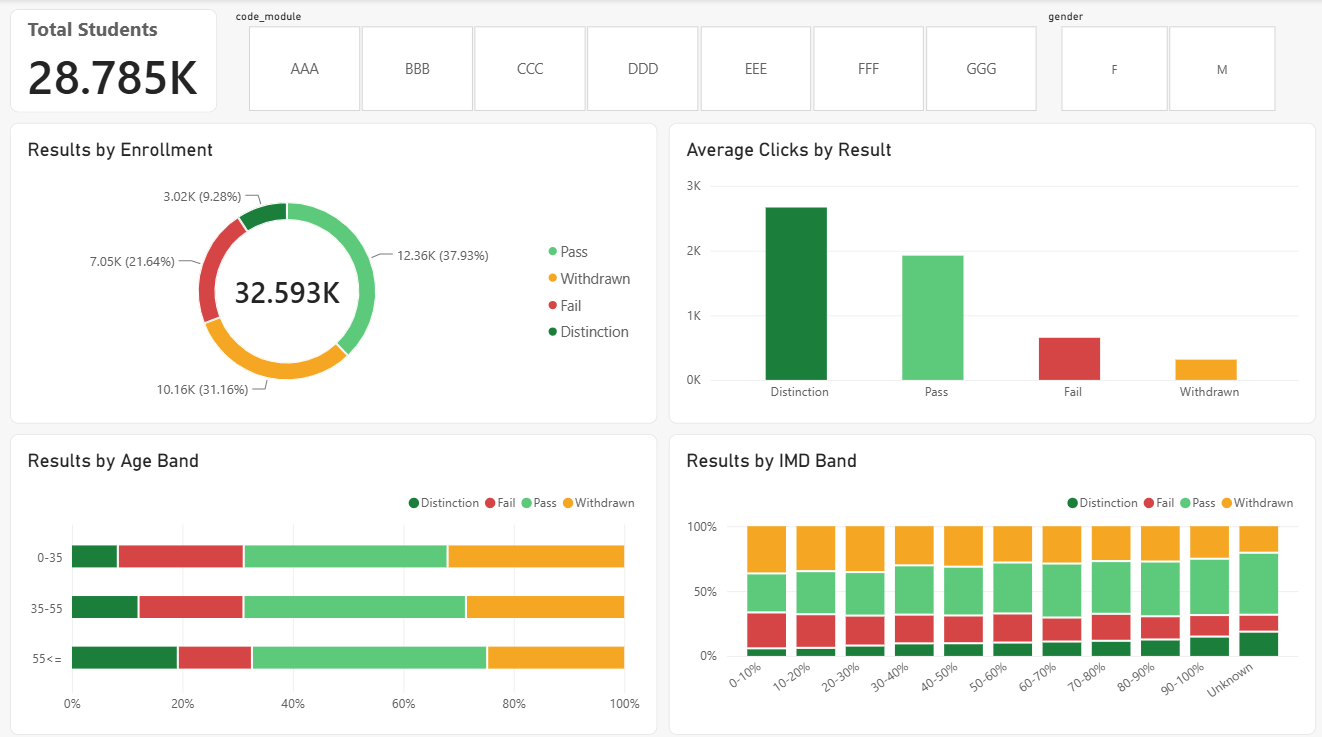

The dashboard page shown, as its layout file describes it:
{"tool":"powerbi","page":{"name":"Page 1","canvas":[1280,720],"ordinal":0},"visuals":[{"type":"cardVisual","fields":{"Data":["Count(studentInfo.id_student)"]},"box":[10,10,200,100],"z":0},{"type":"donutChart","title":"Results by Enrollment","fields":{"Category":["studentInfo.final_result"],"Y":["CountNonNull(studentInfo.id_student)"]},"box":[10,120,625,290],"z":1000},{"type":"hundredPercentStackedBarChart","title":"Results by Age Band","fields":{"Category":["studentInfo.age_band"],"Series":["studentInfo.final_result"],"Y":["CountNonNull(studentInfo.id_student)"]},"box":[10,420,625,290],"z":2000},{"type":"hundredPercentStackedColumnChart","title":"Results by IMD Band","fields":{"Category":["studentInfo.imd_band"],"Series":["studentInfo.final_result"],"Y":["CountNonNull(studentInfo.id_student)"]},"box":[645,420,625,290],"z":3000},{"type":"clusteredColumnChart","title":"Average Clicks by Result","fields":{"Category":["studentInfo.final_result"],"Y":["Avg(studentInfo.total_clicks)"]},"box":[645,120,625,290],"z":4000},{"type":"slicer","fields":{"Values":["studentInfo.code_module"]},"box":[220,10,800,100],"z":5000},{"type":"slicer","fields":{"Values":["studentInfo.gender"]},"box":[1004,10,246,100],"z":6000}]}

Visuals, with their boxes in screenshot pixels (x1, y1, x2, y2), scaled from the page's 1280x720 canvas onto the 1322x737 screenshot:
cardVisual - Count(studentInfo.id_student): pyautogui.locateOnScreen(10, 10, 217, 113)
"Results by Enrollment" donutChart: pyautogui.locateOnScreen(10, 123, 656, 420)
"Results by Age Band" hundredPercentStackedBarChart: pyautogui.locateOnScreen(10, 430, 656, 727)
"Results by IMD Band" hundredPercentStackedColumnChart: pyautogui.locateOnScreen(666, 430, 1312, 727)
"Average Clicks by Result" clusteredColumnChart: pyautogui.locateOnScreen(666, 123, 1312, 420)
slicer - studentInfo.code_module: pyautogui.locateOnScreen(227, 10, 1053, 113)
slicer - studentInfo.gender: pyautogui.locateOnScreen(1037, 10, 1291, 113)
